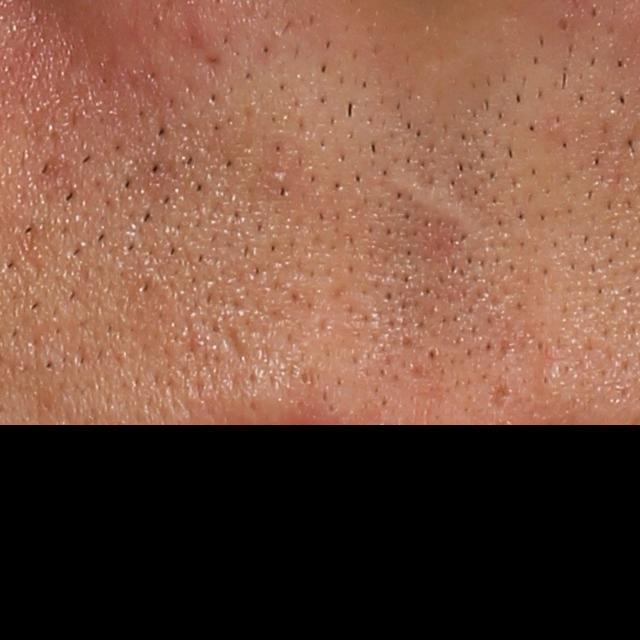atrophic_scar: (225, 323, 253, 364), (485, 382, 514, 414)
comedo: (554, 13, 573, 33)
